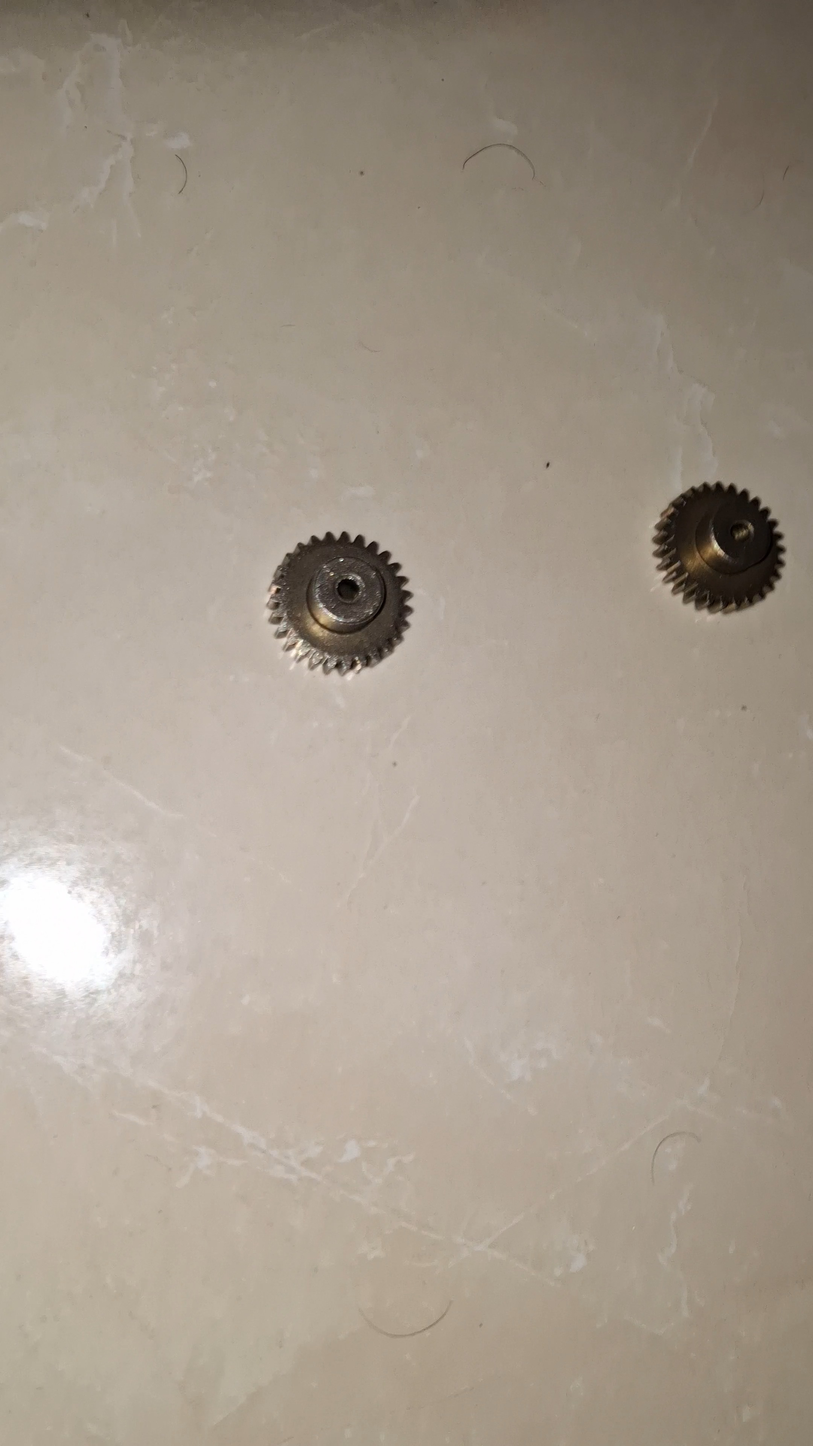spur gear: (268, 532, 411, 673), (654, 483, 784, 611)
